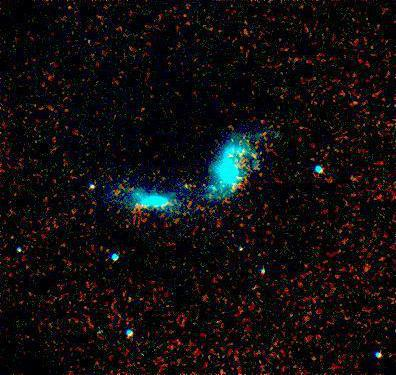star: (175, 168, 205, 198)
